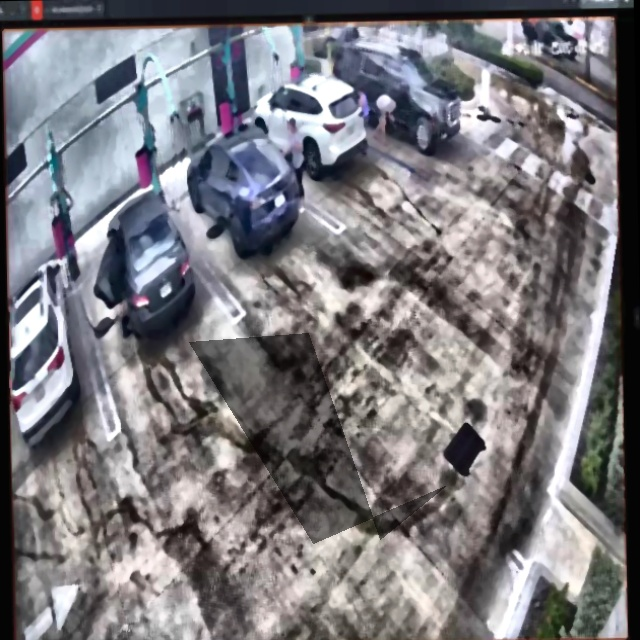Car: (94, 195, 194, 338), (187, 123, 295, 252), (248, 73, 365, 174)
